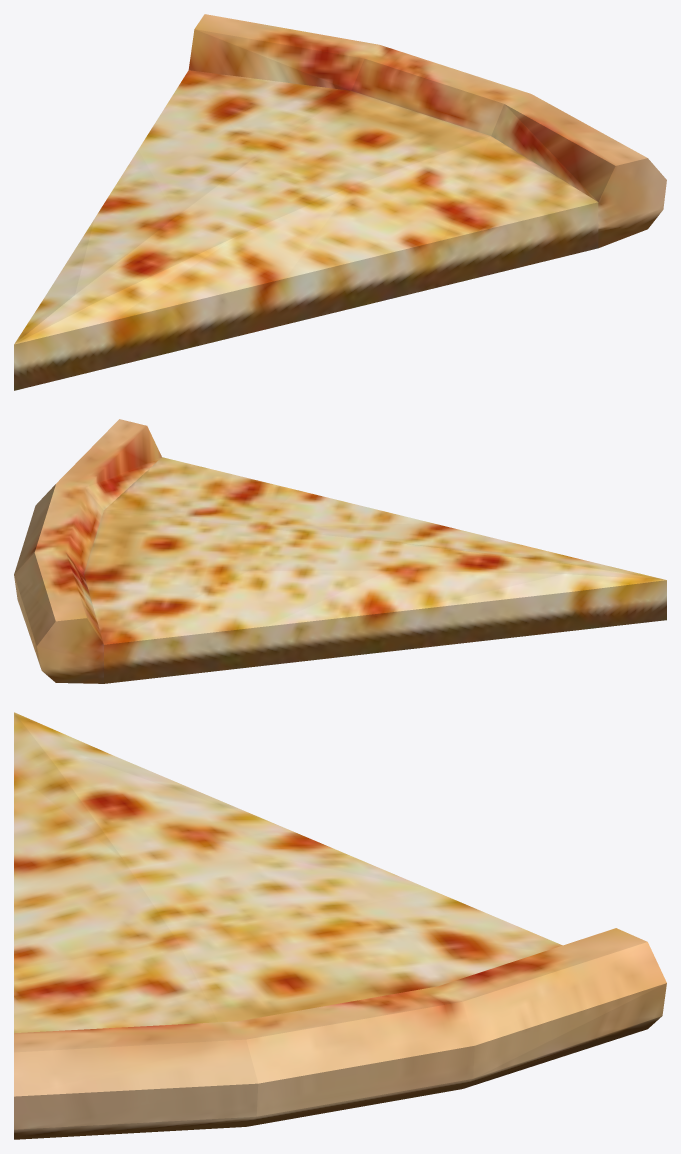
The model's file is e29LlIx3T2F.glb.
3 views of the same model, one above another, from view 1: azimuth 30°, elevation 25°; view 2: azimuth 150°, elevation 25°; view 3: azimuth 270°, elevation 25° (orthographic). The views are drawn at different scales.
Parts seen in each view (by area): view 1: Node; view 2: Node; view 3: Node.
Boxes of the visible parts, x1,y1,x2,y2 form: Node: [14, 14, 666, 390]; Node: [14, 419, 666, 683]; Node: [14, 712, 666, 1139].
Size of the model in its own units: 8.74 by 0.9998 by 6.17.
1 material, 1 textured.
